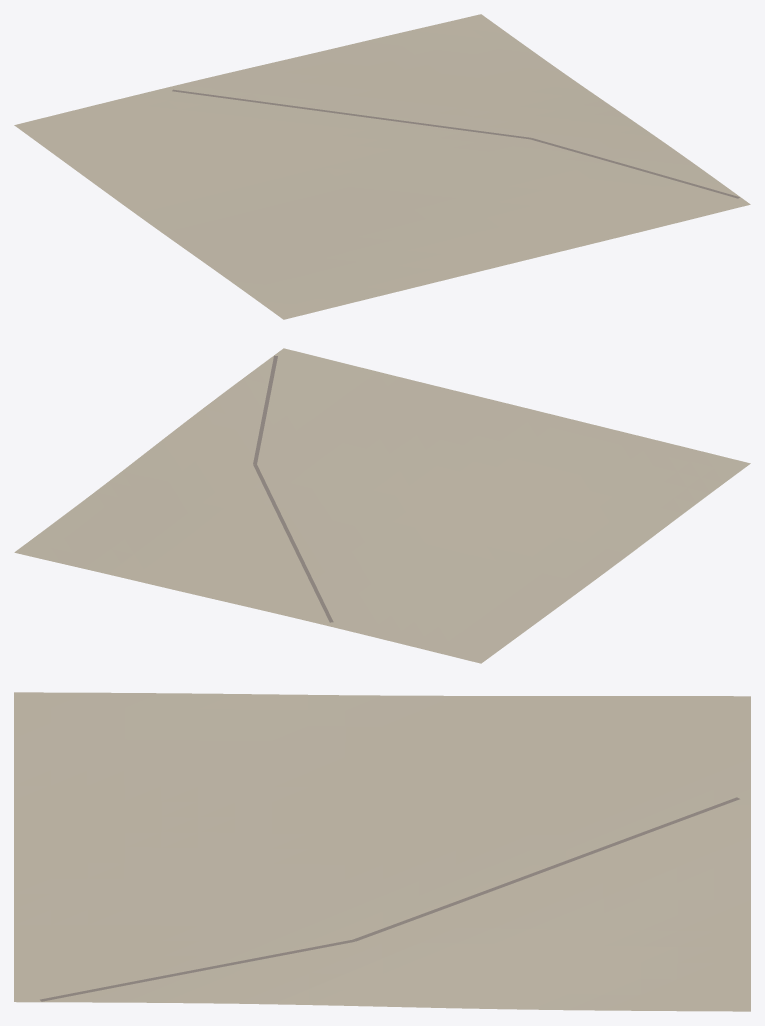
The model's file is bolak_21_-5.glb.
The picture shows the model from 3 angles, top to bottom: view 1: azimuth 30°, elevation 25°; view 2: azimuth 150°, elevation 25°; view 3: azimuth 270°, elevation 25°; orthographic projection. The views are drawn at different scales.
Parts seen in each view (by area): view 1: Yer_Tuproq-col, Temir_Yol; view 2: Yer_Tuproq-col, Temir_Yol; view 3: Yer_Tuproq-col, Temir_Yol.
Part boxes in pixels (left/top/right/bottom): Yer_Tuproq-col: left=14, top=14, right=750, bottom=319; Temir_Yol: left=172, top=89, right=739, bottom=198; Yer_Tuproq-col: left=14, top=348, right=750, bottom=663; Temir_Yol: left=253, top=355, right=333, bottom=622; Yer_Tuproq-col: left=14, top=692, right=750, bottom=1011; Temir_Yol: left=40, top=797, right=739, bottom=1001.
Size of the model in its own units: 400 by 5.68 by 400.
